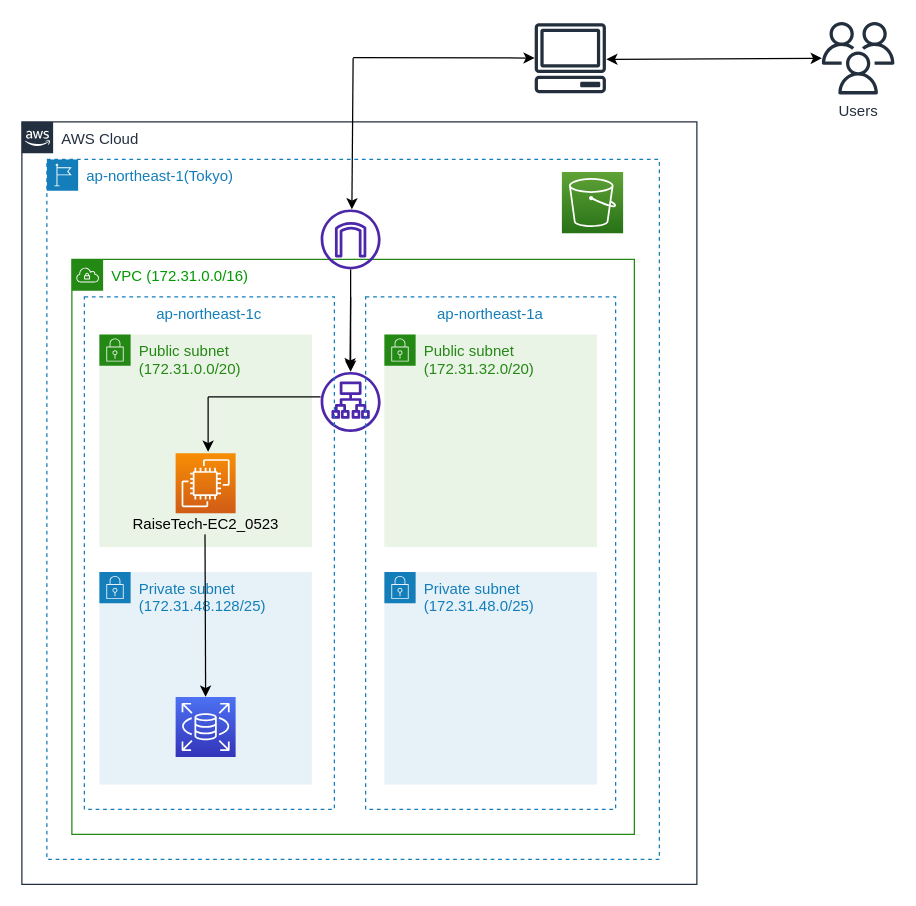
Some shapes in this 916 by 906 pixel diagram are drawn without their labels. The shapes that lost their labels are listed below. From the top down, each one's centre as x and y in pixels, then its label:
At pixel 570 57: "Internet".
At pixel 592 202: "S3-raisetech-0607".
At pixel 350 401: "Raisetech-ALB-0607".
At pixel 205 726: "database-3".
